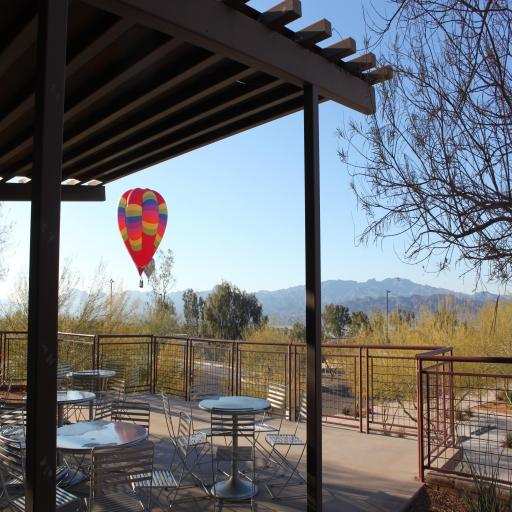hot air ballon: (116, 187, 168, 288), (144, 257, 156, 284)
